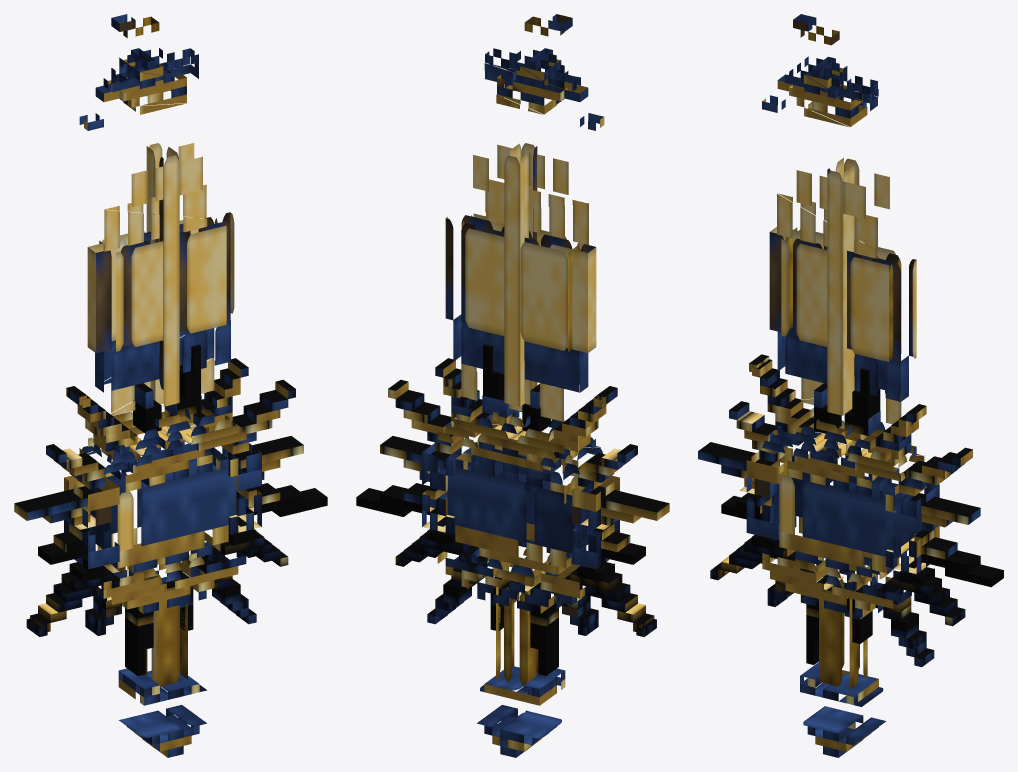
File: sunflayer.obj
3 views of the same model, side by side, from view 1: azimuth 30°, elevation 25°; view 2: azimuth 150°, elevation 25°; view 3: azimuth 330°, elevation 25° (orthographic). The views are drawn at different scales.
Visible parts, largest first — view 1: lit, fire; view 2: lit, fire; view 3: lit, fire.
Part boxes in pixels (bbox=[...]): lit: bbox=[64, 14, 261, 757]; fire: bbox=[14, 340, 327, 675]; lit: bbox=[422, 14, 619, 757]; fire: bbox=[356, 344, 669, 675]; lit: bbox=[739, 14, 939, 757]; fire: bbox=[698, 354, 1003, 667].
Bounding box in the file's own units: 1.19 × 2.78 × 0.175.
